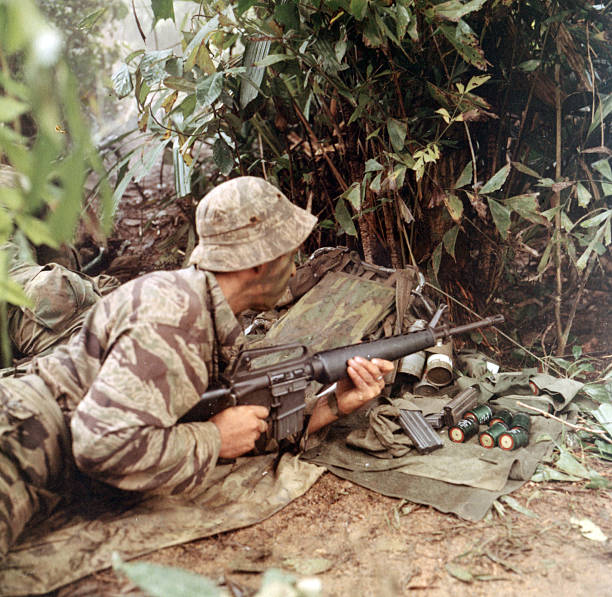rifle: (217, 311, 516, 438)
